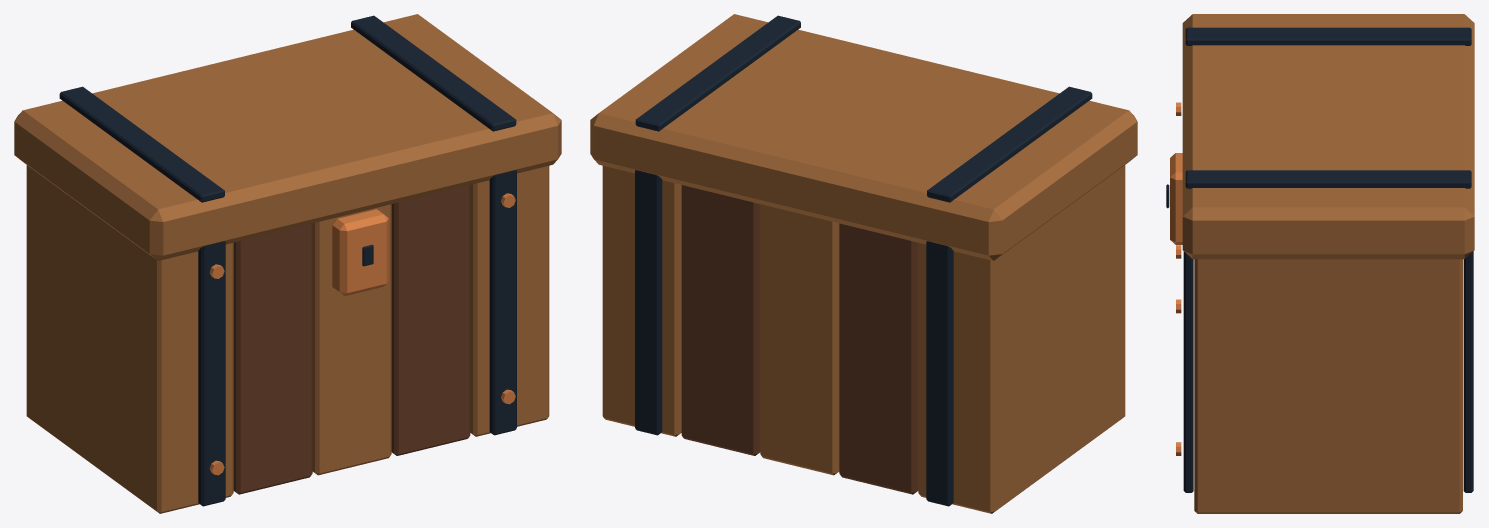
File: Storage_Chest.gltf
The picture shows the model from 3 angles, left to right: view 1: azimuth 30°, elevation 25°; view 2: azimuth 150°, elevation 25°; view 3: azimuth 270°, elevation 25°; orthographic projection.
Visible parts, largest first — view 1: Lid_5, Chest_Plank_0, Chest_Plank_1, Chest_Plank_3, Chest_Plank_2, Chest_Plank_4, Vertical_Band_11, Vertical_Band_6, Lid_Band_13, Lid_Band_8, Lock_16; view 2: Lid_5, Chest_Plank_0, Chest_Plank_1, Chest_Plank_2, Chest_Plank_3, Chest_Plank_4, Vertical_Band_12, Vertical_Band_7, Lid_Band_8, Lid_Band_13; view 3: Chest_Plank_4, Lid_5, Lid_Band_8, Lid_Band_13, Vertical_Band_11, Vertical_Band_12, Lock_16.
Part boxes in pixels (x1,y1,x2,y2): Lid_5: [14, 14, 561, 260]; Chest_Plank_0: [26, 165, 233, 513]; Chest_Plank_1: [233, 223, 312, 494]; Chest_Plank_3: [391, 185, 470, 455]; Chest_Plank_2: [312, 204, 391, 475]; Chest_Plank_4: [470, 166, 549, 436]; Vertical_Band_11: [489, 170, 516, 435]; Vertical_Band_6: [198, 241, 225, 506]; Lid_Band_13: [351, 15, 516, 131]; Lid_Band_8: [59, 86, 224, 202]; Lock_16: [332, 209, 388, 296]; Lid_5: [590, 14, 1137, 260]; Chest_Plank_0: [918, 165, 1125, 513]; Chest_Plank_1: [839, 223, 918, 494]; Chest_Plank_2: [760, 204, 839, 475]; Chest_Plank_3: [681, 185, 760, 455]; Chest_Plank_4: [602, 166, 681, 436]; Vertical_Band_12: [635, 170, 662, 435]; Vertical_Band_7: [926, 241, 953, 506]; Lid_Band_8: [927, 86, 1092, 202]; Lid_Band_13: [635, 15, 800, 131]; Chest_Plank_4: [1194, 259, 1462, 513]; Lid_5: [1182, 14, 1474, 259]; Lid_Band_8: [1185, 27, 1471, 45]; Lid_Band_13: [1185, 170, 1471, 188]; Vertical_Band_11: [1183, 251, 1193, 492]; Vertical_Band_12: [1463, 251, 1473, 492]; Lock_16: [1170, 153, 1182, 244].
Size of the model in its own units: 1.67 by 1.21 by 1.08.
